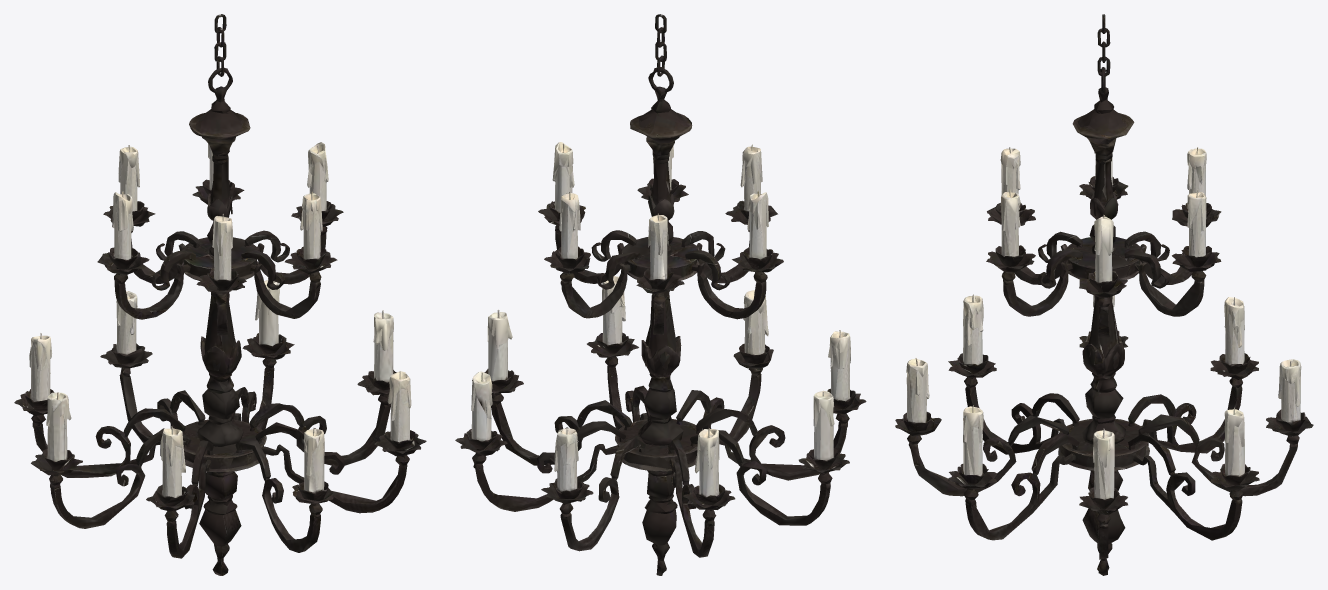
File: chandelier.glb
3 renders of one model, left to right at view 1: azimuth 30°, elevation 25°; view 2: azimuth 150°, elevation 25°; view 3: azimuth 270°, elevation 25°, orthographic.
Bounding box in the file's own units: 1.3 × 1.9 × 1.28.
1 material, 1 textured.
